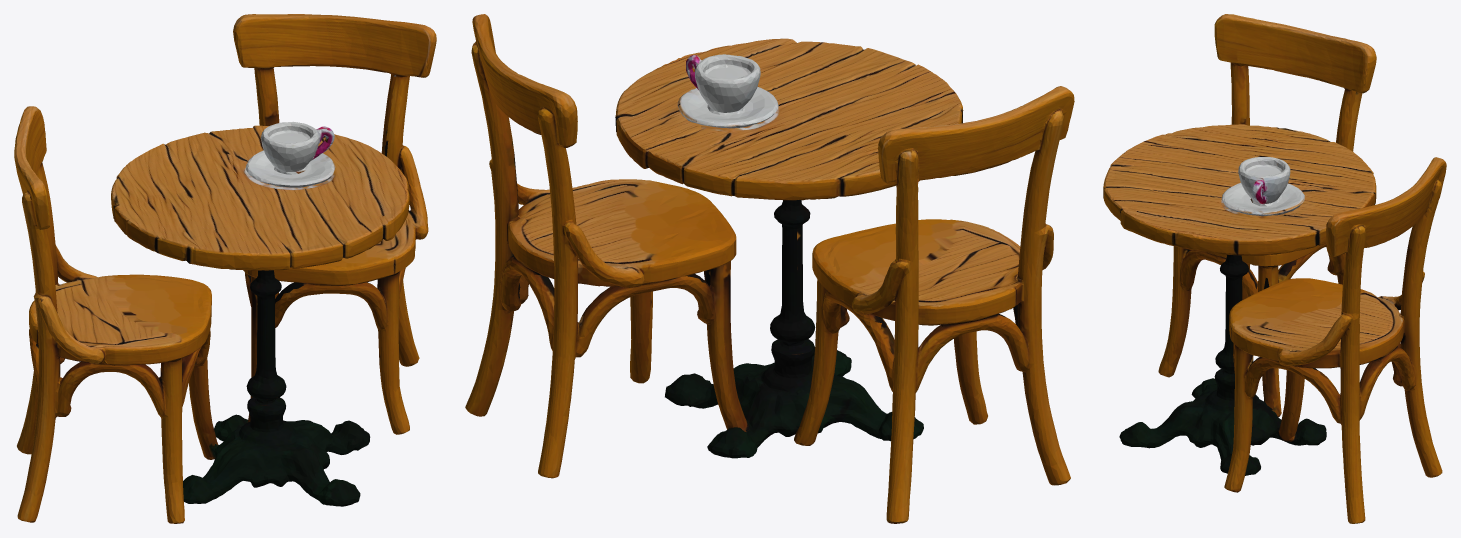
The model's file is cafe-table.glb.
3 views of the same model, side by side, from view 1: azimuth 30°, elevation 25°; view 2: azimuth 150°, elevation 25°; view 3: azimuth 270°, elevation 25° (orthographic). The views are drawn at different scales.
Parts seen in each view (by area): view 1: textured; view 2: textured; view 3: textured.
Part boxes in pixels (x1,y1,x2,y2): textured: (14, 14, 436, 523); textured: (465, 14, 1074, 523); textured: (1103, 14, 1446, 523).
Size of the model in its own units: 1.99 by 1.42 by 1.38.
1 material, 1 textured.
